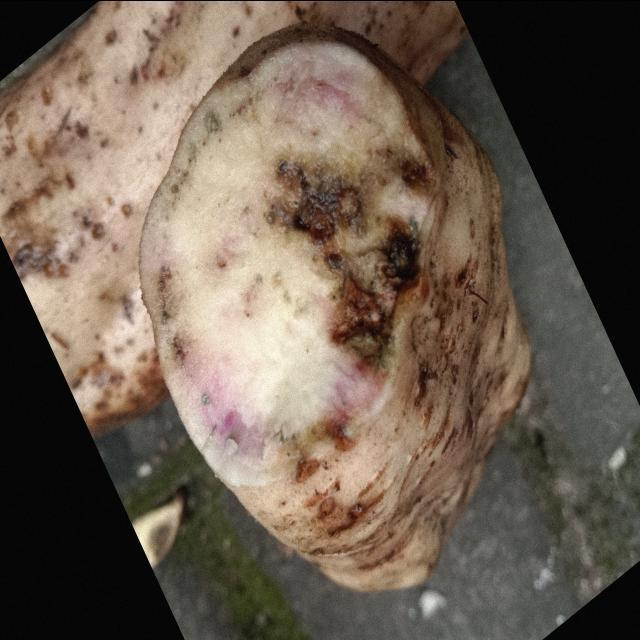Sick Sweet Potato_Tuber Rot: (140, 28, 436, 487)
